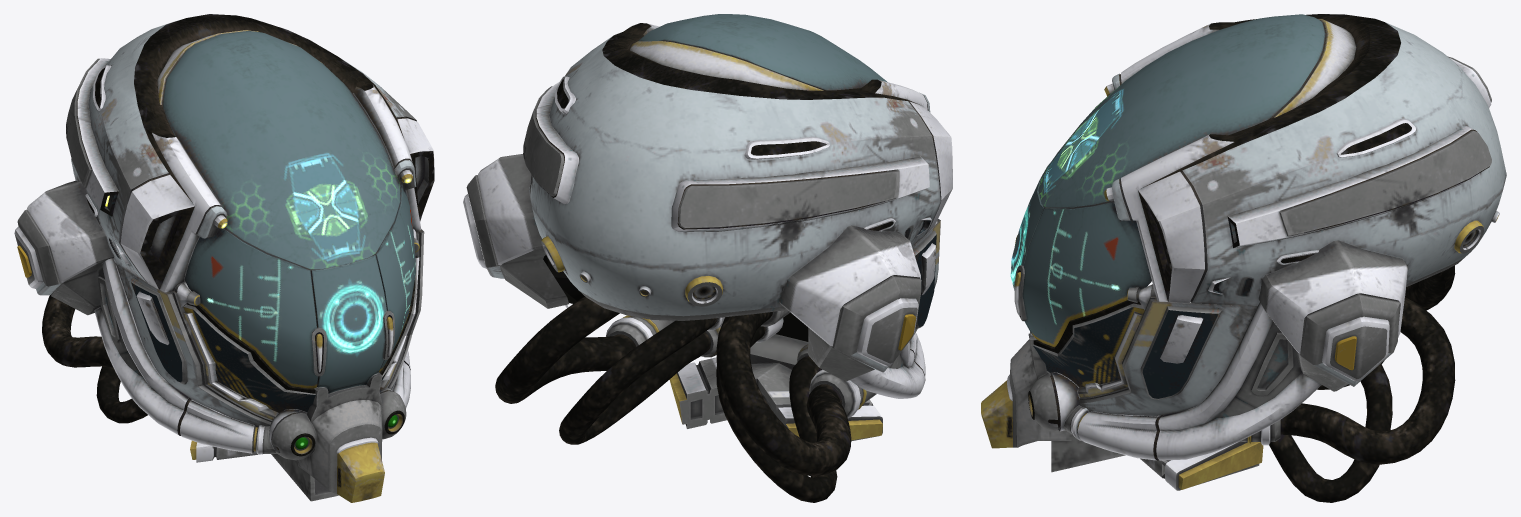
The model's file is DamagedHelmet.glb.
The picture shows the model from 3 angles, left to right: view 1: azimuth 30°, elevation 25°; view 2: azimuth 150°, elevation 25°; view 3: azimuth 270°, elevation 25°; orthographic projection. The views are drawn at different scales.
Parts seen in each view (by area): view 1: node_damagedHelmet_-6514; view 2: node_damagedHelmet_-6514; view 3: node_damagedHelmet_-6514.
Part boxes in pixels (x1,y1,x2,y2): node_damagedHelmet_-6514: (14,14,434,502); node_damagedHelmet_-6514: (463,14,952,502); node_damagedHelmet_-6514: (981,14,1506,502).
Bounding box in the file's own units: 1.89 × 1.8 × 2.
1 material, 1 textured.
